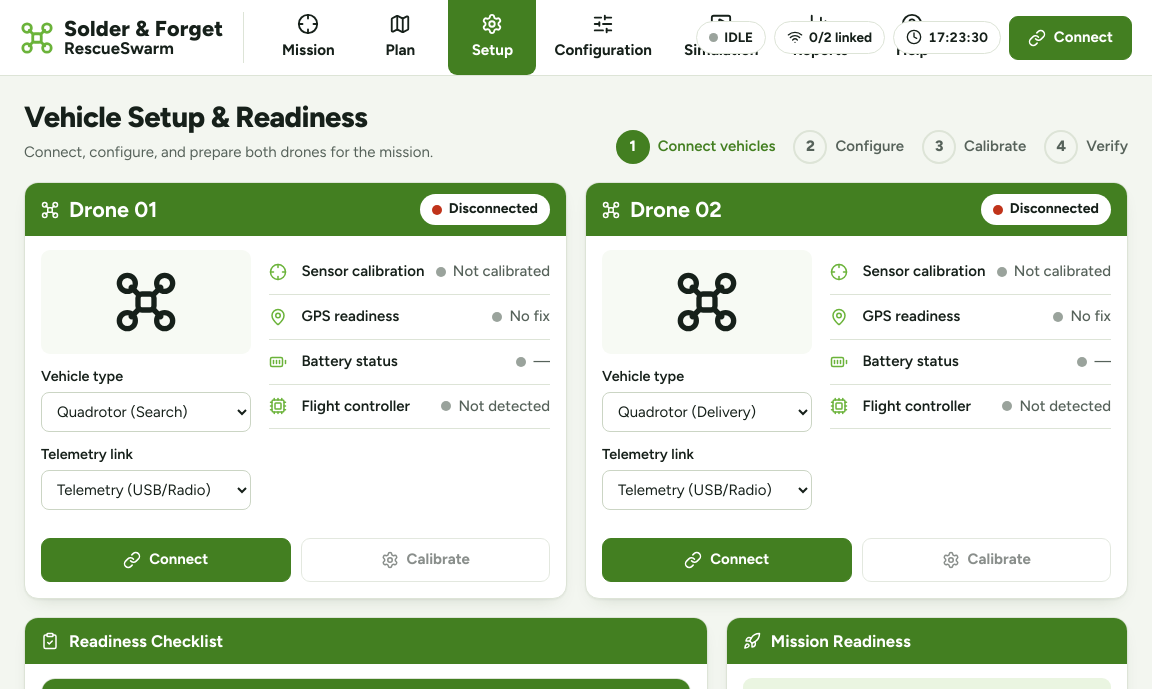
Test: Setup › I10 connecting Drone 01 updates its badge, checks and percentage
Expected: the text "Disconnected" is shown, [420,194,550,225]
Click the button with aria-label "Connect Drone 01" at (166, 560), box [41,538,290,582]
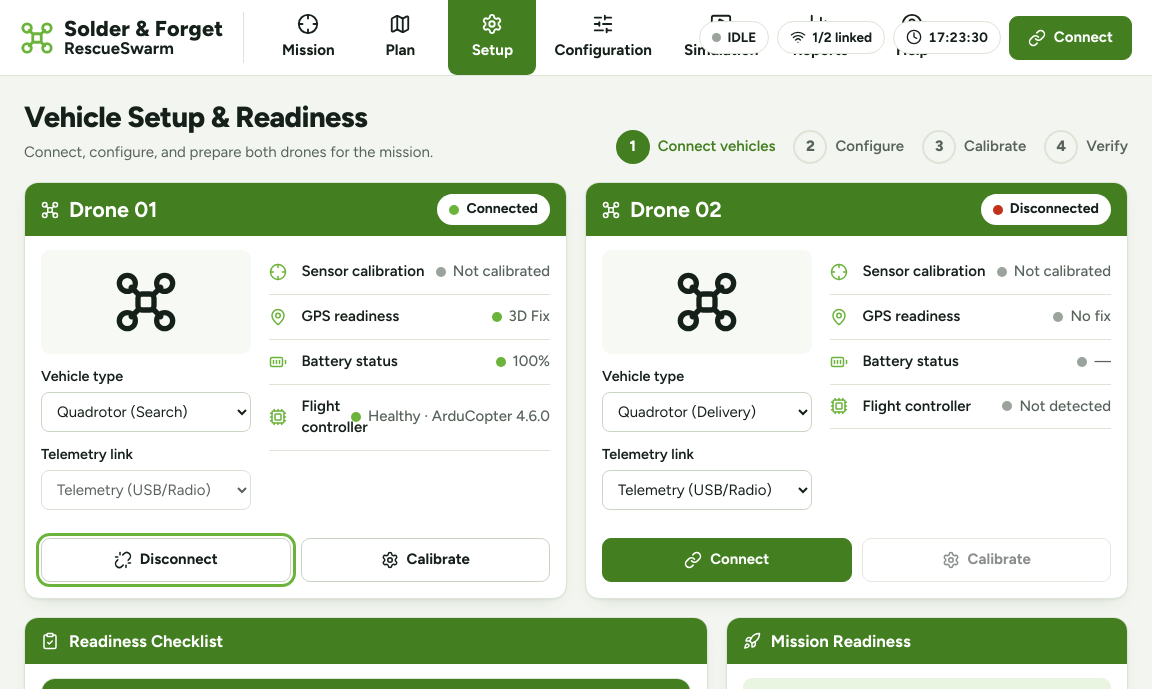
Expected: the text "Connected" is shown, [437,194,550,225]
Click the button with aria-label "Calibrate Drone 01" at (425, 560), box [300,538,550,582]
(page scrolled)
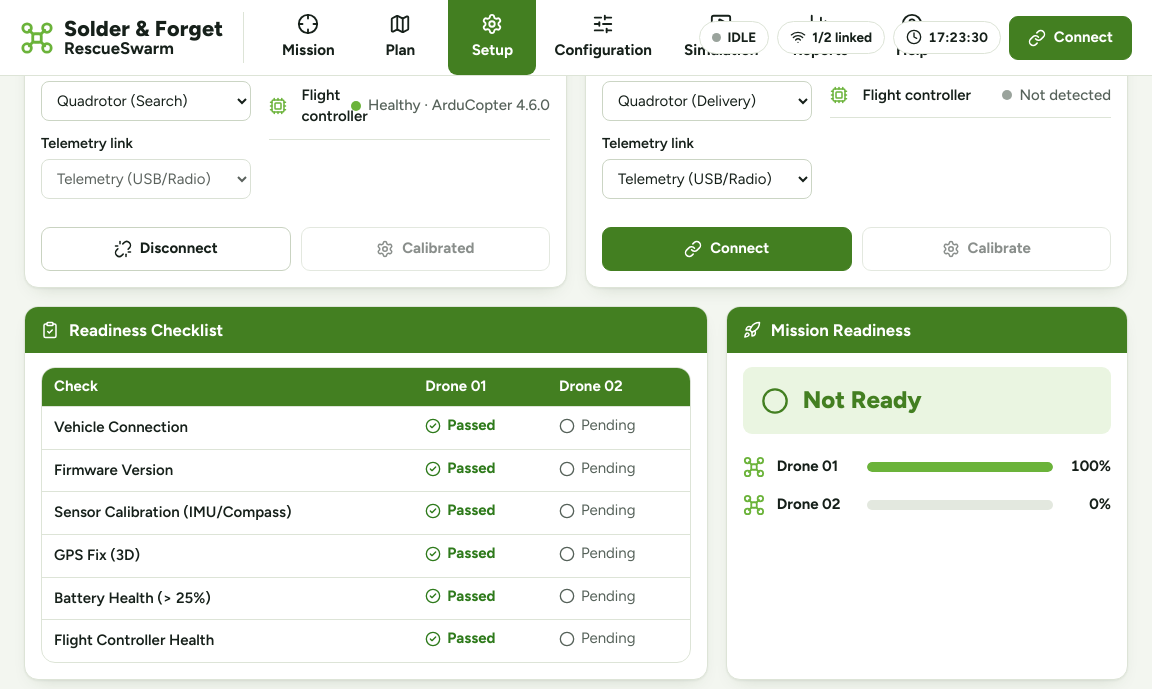
Expected: the progress indicator named "Drone 02 readiness" reads "0%", [867,494,1111,516]
Expected: the progress indicator named "Drone 01 readiness" reads "100%", [867,456,1111,478]
